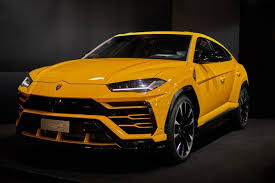Lamborghini: (21, 36, 234, 153)
